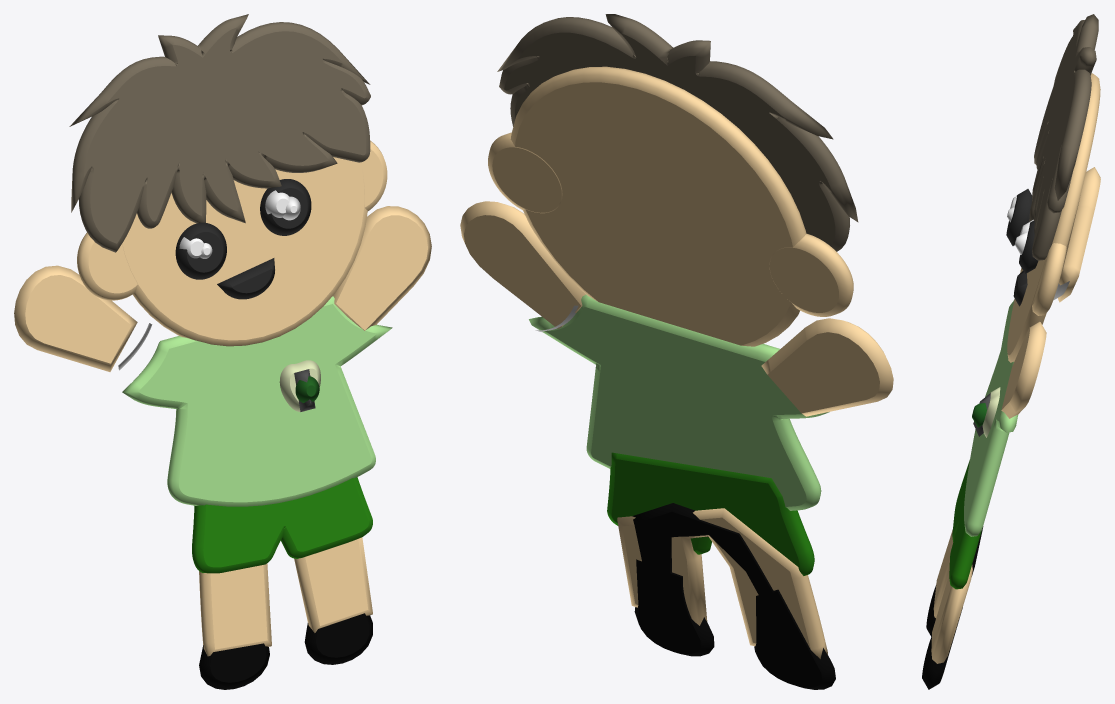
The model's file is objet3d.glb.
3 renders of one model, left to right at view 1: azimuth 30°, elevation 25°; view 2: azimuth 150°, elevation 25°; view 3: azimuth 270°, elevation 25°, orthographic. The views are drawn at different scales.
Parts seen in each view (by area): view 1: Curve.018, Curve.005, Curve.011, Curve.004, Curve.003, Curve.001, Curve.002, Curve, Curve.010, Curve.015, Curve.012, Curve.019 (+2 smaller); view 2: Curve.011, Curve.005, Curve.018, Curve, Curve.004, Curve.003, Curve.001, Curve.002, Curve.010, Curve.009; view 3: Curve.018, Curve.005, Curve.011, Curve.003, Curve.002, Curve.001, Curve.004, Curve.009, Curve, Curve.015, Curve.012, Curve.006 (+1 smaller).
Boxes of the visible parts, bbox=[...] form: Curve.018: bbox=[69, 14, 370, 252]; Curve.005: bbox=[122, 296, 392, 506]; Curve.011: bbox=[122, 157, 367, 346]; Curve.004: bbox=[192, 477, 372, 573]; Curve.003: bbox=[199, 537, 372, 656]; Curve.001: bbox=[14, 265, 137, 371]; Curve.002: bbox=[333, 206, 431, 330]; Curve: bbox=[199, 613, 372, 689]; Curve.010: bbox=[77, 232, 137, 300]; Curve.015: bbox=[175, 222, 226, 279]; Curve.012: bbox=[260, 179, 311, 235]; Curve.019: bbox=[217, 258, 274, 299]; Curve.011: bbox=[510, 66, 806, 346]; Curve.005: bbox=[529, 294, 829, 510]; Curve.018: bbox=[497, 14, 858, 251]; Curve: bbox=[632, 503, 835, 689]; Curve.004: bbox=[607, 452, 814, 575]; Curve.003: bbox=[617, 508, 827, 658]; Curve.001: bbox=[761, 318, 893, 416]; Curve.002: bbox=[460, 201, 585, 328]; Curve.010: bbox=[769, 233, 853, 316]; Curve.009: bbox=[488, 132, 562, 213]; Curve.018: bbox=[1029, 14, 1098, 260]; Curve.005: bbox=[964, 300, 1018, 536]; Curve.011: bbox=[1007, 73, 1100, 362]; Curve.003: bbox=[931, 529, 972, 663]; Curve.002: bbox=[1001, 321, 1046, 418]; Curve.001: bbox=[1057, 167, 1100, 302]; Curve.004: bbox=[949, 460, 981, 589]; Curve.009: bbox=[1032, 243, 1066, 315]; Curve: bbox=[922, 526, 983, 689]; Curve.015: bbox=[1006, 189, 1032, 245]; Curve.012: bbox=[1019, 220, 1038, 273]; Curve.006: bbox=[982, 387, 1000, 437].
Size of the model in its own units: 29.54 by 43.36 by 11.32.
